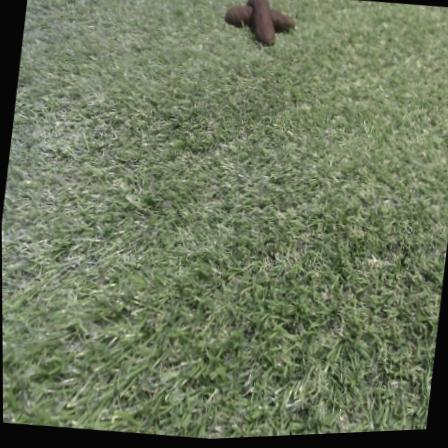dog-poop: (227, 0, 294, 47)
